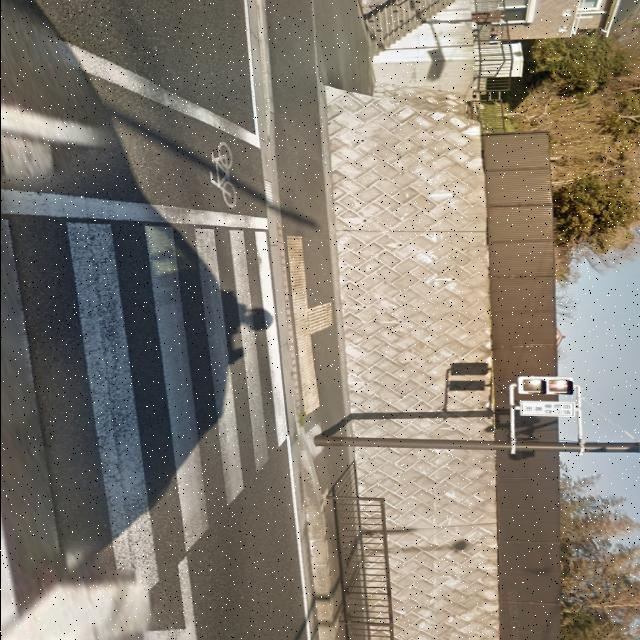traffic-light: (514, 372, 576, 398)
